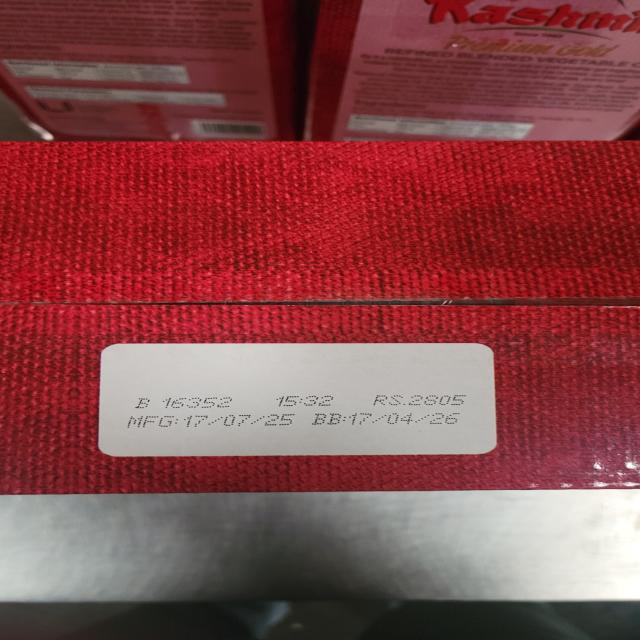BB: (313, 412, 463, 426)
Batch: (135, 398, 236, 408)
MFG: (128, 414, 294, 428)
RS: (371, 394, 468, 406)
TimeStamp: (276, 395, 338, 407)
